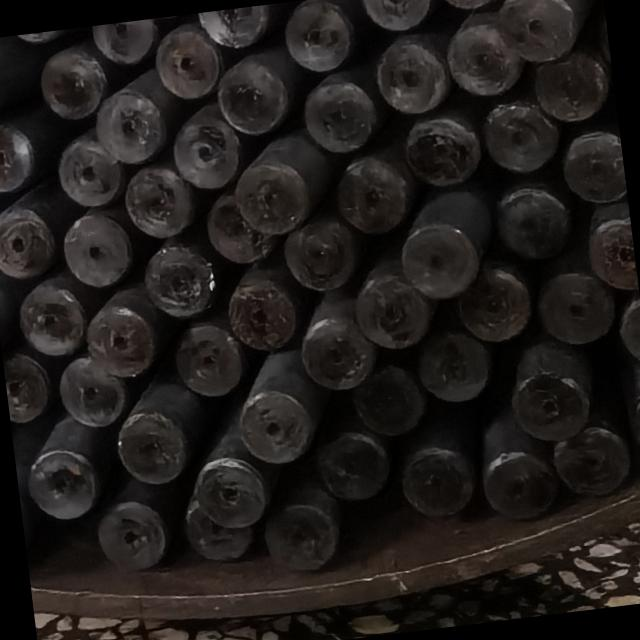tool: (250, 480, 344, 577), (80, 280, 172, 378), (12, 424, 104, 522), (347, 260, 437, 354), (448, 252, 536, 348), (296, 65, 388, 156), (0, 176, 79, 281), (228, 380, 319, 469), (212, 46, 300, 138), (296, 297, 379, 392), (328, 146, 416, 234), (549, 414, 636, 502), (412, 322, 498, 411), (480, 95, 570, 179), (113, 399, 193, 492), (168, 100, 246, 190), (232, 156, 314, 240), (512, 360, 597, 441), (532, 268, 616, 348), (221, 264, 297, 352), (280, 208, 360, 291), (197, 189, 280, 269), (529, 44, 613, 123), (399, 111, 485, 188), (14, 270, 89, 358), (89, 493, 171, 572), (52, 344, 128, 429), (90, 85, 166, 169), (150, 15, 224, 100), (346, 358, 426, 436), (142, 238, 216, 322), (448, 17, 522, 100), (171, 316, 244, 400), (59, 207, 134, 288), (394, 224, 476, 298), (121, 162, 197, 241), (38, 38, 112, 119), (372, 42, 452, 115), (193, 456, 268, 532), (492, 0, 579, 65), (476, 450, 554, 520), (282, 2, 356, 74), (177, 492, 255, 560), (562, 128, 628, 208), (53, 137, 125, 210), (586, 201, 638, 294), (320, 430, 386, 503), (498, 189, 562, 263), (409, 450, 473, 520), (2, 346, 52, 426), (90, 18, 160, 69), (199, 4, 274, 50), (0, 115, 38, 202), (0, 254, 23, 368), (358, 0, 434, 33), (614, 291, 640, 366), (433, 0, 501, 17), (631, 389, 640, 465)
